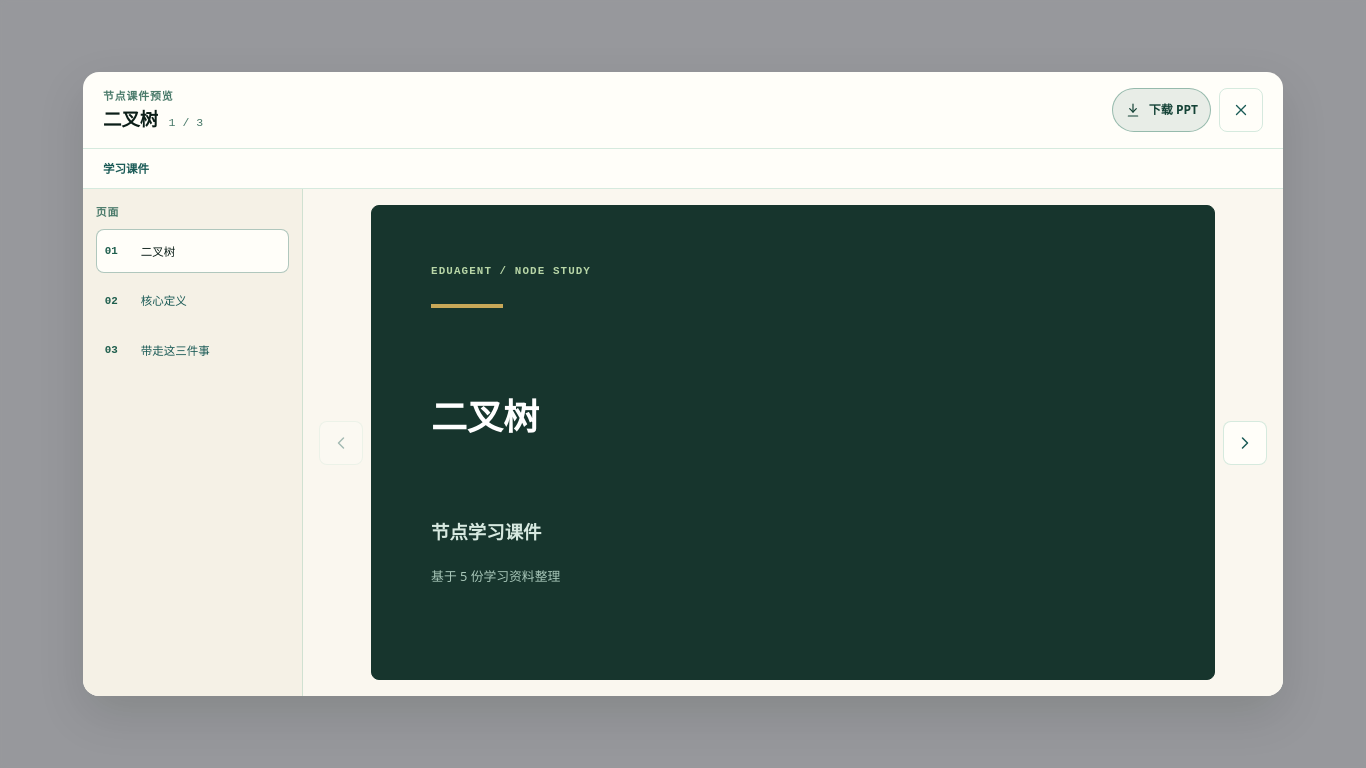
Test case: PptPreview › shows the active slide and supports paging
Click the button named "下一页": (1245, 442) x1=1223 y1=420 x2=1267 y2=464
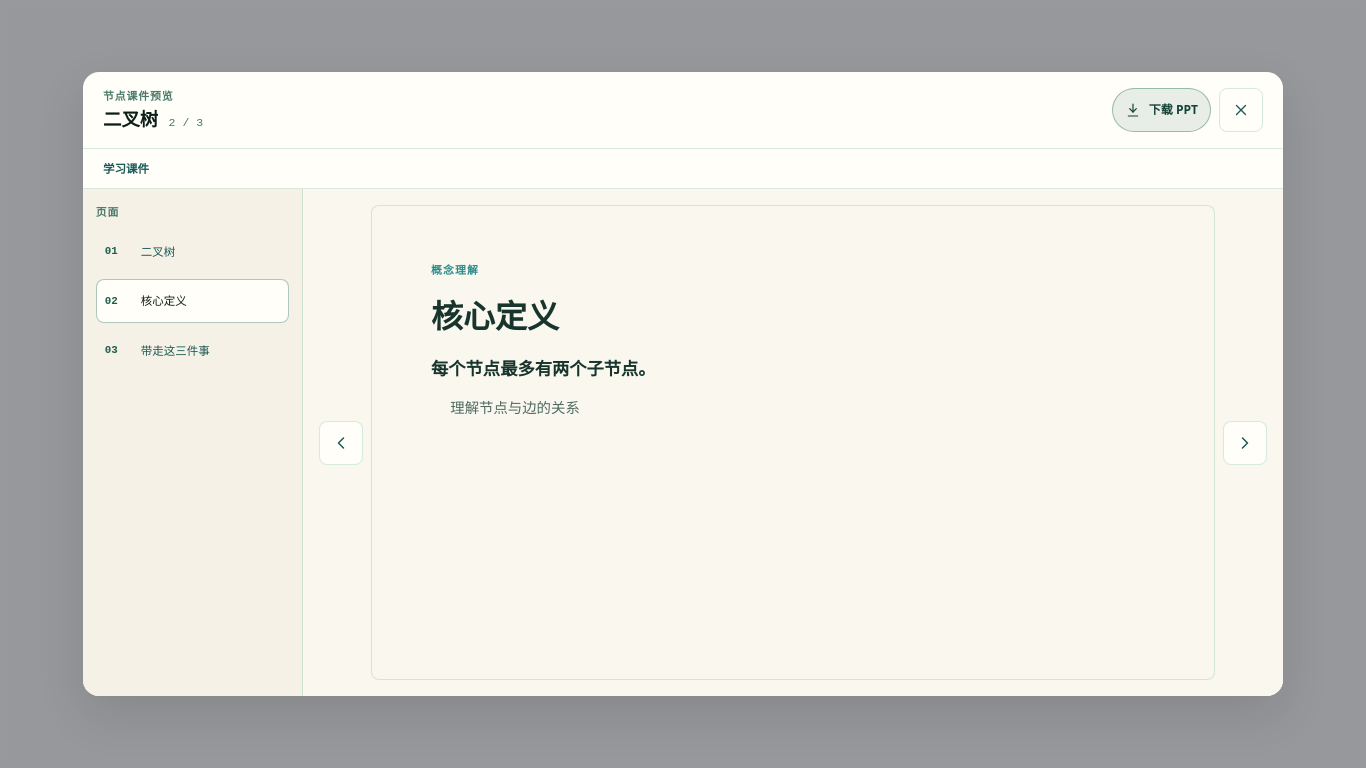
expect the text "核心定义" is shown: met, box x1=141 y1=293 x2=187 y2=309
expect the text "2 / 3" is shown: met, box x1=169 y1=114 x2=203 y2=132
